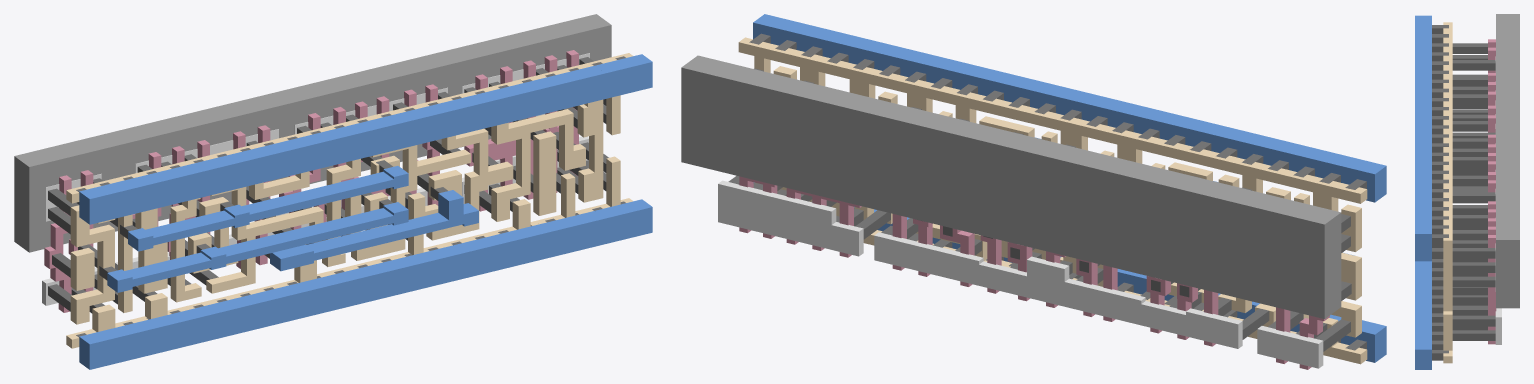
File: sky130_fd_sc_hd__dfrbp_2.gds.gltf
3 views of the same model, side by side, from view 1: azimuth 30°, elevation 25°; view 2: azimuth 150°, elevation 25°; view 3: azimuth 270°, elevation 25° (orthographic). The views are drawn at different scales.
Parts seen in each view (by area): view 1: sky130_fd_sc_hd__dfrbp_2_met1, sky130_fd_sc_hd__dfrbp_2_li1, sky130_fd_sc_hd__dfrbp_2_nwell, sky130_fd_sc_hd__dfrbp_2_poly, sky130_fd_sc_hd__dfrbp_2_licon, sky130_fd_sc_hd__dfrbp_2_diff, sky130_fd_sc_hd__dfrbp_2_mcon; view 2: sky130_fd_sc_hd__dfrbp_2_nwell, sky130_fd_sc_hd__dfrbp_2_li1, sky130_fd_sc_hd__dfrbp_2_diff, sky130_fd_sc_hd__dfrbp_2_met1, sky130_fd_sc_hd__dfrbp_2_poly, sky130_fd_sc_hd__dfrbp_2_mcon, sky130_fd_sc_hd__dfrbp_2_licon; view 3: sky130_fd_sc_hd__dfrbp_2_licon, sky130_fd_sc_hd__dfrbp_2_nwell, sky130_fd_sc_hd__dfrbp_2_met1, sky130_fd_sc_hd__dfrbp_2_mcon, sky130_fd_sc_hd__dfrbp_2_li1, sky130_fd_sc_hd__dfrbp_2_poly, sky130_fd_sc_hd__dfrbp_2_diff.
Part boxes in pixels (box(x1,y1,x2,y2)): sky130_fd_sc_hd__dfrbp_2_met1: box(79, 54, 652, 369); sky130_fd_sc_hd__dfrbp_2_li1: box(66, 53, 633, 348); sky130_fd_sc_hd__dfrbp_2_nwell: box(14, 14, 611, 252); sky130_fd_sc_hd__dfrbp_2_poly: box(44, 50, 578, 312); sky130_fd_sc_hd__dfrbp_2_licon: box(48, 57, 608, 313); sky130_fd_sc_hd__dfrbp_2_diff: box(42, 53, 589, 305); sky130_fd_sc_hd__dfrbp_2_mcon: box(76, 56, 625, 337); sky130_fd_sc_hd__dfrbp_2_nwell: box(681, 55, 1341, 318); sky130_fd_sc_hd__dfrbp_2_li1: box(738, 37, 1367, 364); sky130_fd_sc_hd__dfrbp_2_diff: box(718, 180, 1323, 368); sky130_fd_sc_hd__dfrbp_2_met1: box(753, 14, 1386, 362); sky130_fd_sc_hd__dfrbp_2_poly: box(739, 176, 1329, 369); sky130_fd_sc_hd__dfrbp_2_mcon: box(749, 33, 1366, 350); sky130_fd_sc_hd__dfrbp_2_licon: box(728, 68, 1351, 351); sky130_fd_sc_hd__dfrbp_2_licon: box(1452, 43, 1495, 340); sky130_fd_sc_hd__dfrbp_2_nwell: box(1496, 14, 1519, 308); sky130_fd_sc_hd__dfrbp_2_met1: box(1415, 15, 1431, 369); sky130_fd_sc_hd__dfrbp_2_mcon: box(1432, 25, 1448, 360); sky130_fd_sc_hd__dfrbp_2_li1: box(1443, 22, 1452, 363); sky130_fd_sc_hd__dfrbp_2_poly: box(1488, 39, 1496, 344); sky130_fd_sc_hd__dfrbp_2_diff: box(1495, 56, 1501, 344).
Bounding box in the file's own units: 11.42 × 3.2 × 2.24.
